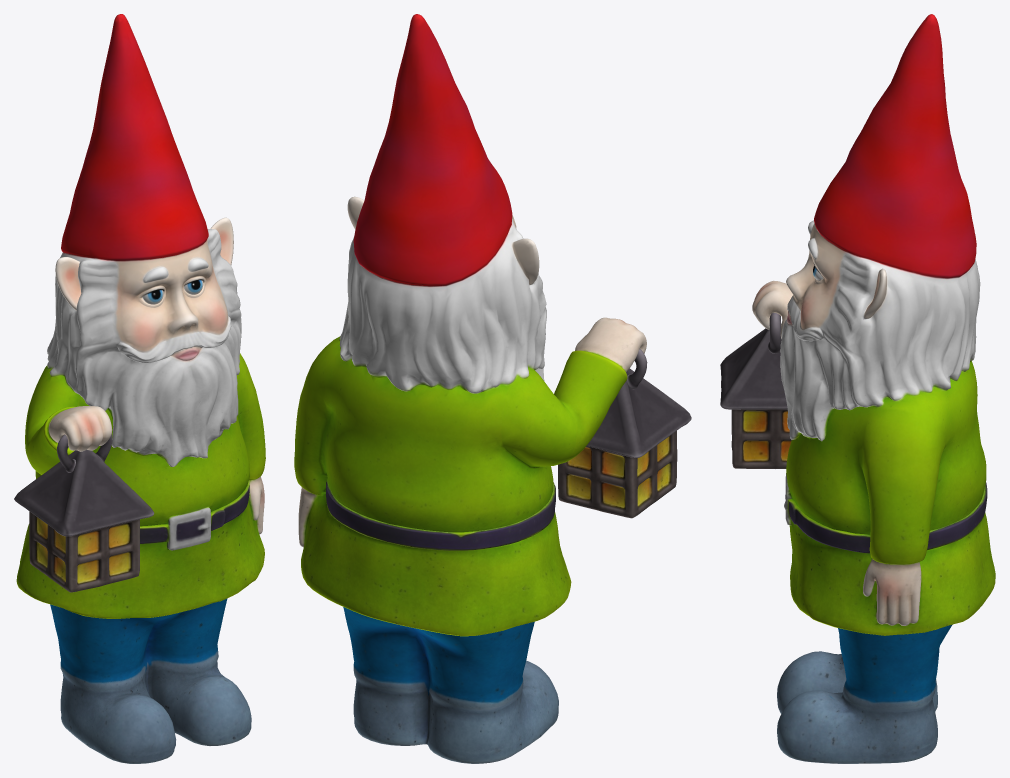
File: garden_gnome.glb
3 views of the same model, side by side, from view 1: azimuth 30°, elevation 25°; view 2: azimuth 150°, elevation 25°; view 3: azimuth 270°, elevation 25° (orthographic). The views are drawn at different scales.
Parts seen in each view (by area): view 1: garden_gnome; view 2: garden_gnome; view 3: garden_gnome.
Boxes of the visible parts, <box> form: garden_gnome: <box>14,14,265,763</box>; garden_gnome: <box>294,14,691,763</box>; garden_gnome: <box>720,14,995,763</box>.
Bounding box in the file's own units: 0.2579 × 0.5991 × 0.2097.
1 material, 1 textured.
